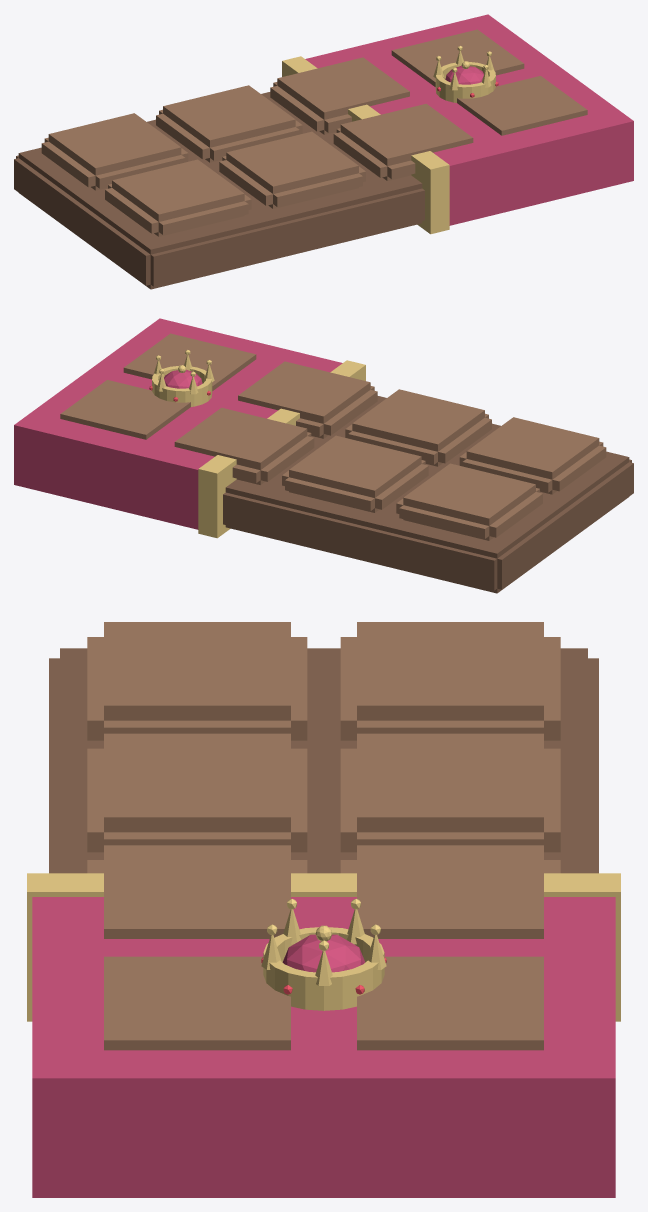
Rendered from HOB_ChocolateBar.fbx.
3 views of the same model, one above another, from view 1: azimuth 30°, elevation 25°; view 2: azimuth 150°, elevation 25°; view 3: azimuth 270°, elevation 25° (orthographic). The views are drawn at different scales.
Parts seen in each view (by area): view 1: HOB_ChocolateBar; view 2: HOB_ChocolateBar; view 3: HOB_ChocolateBar.
Boxes of the visible parts, <box> form: HOB_ChocolateBar: <box>14,14,633,289</box>; HOB_ChocolateBar: <box>14,318,633,593</box>; HOB_ChocolateBar: <box>27,622,620,1197</box>.
Bounding box in the file's own units: 202 × 38.64 × 108.
